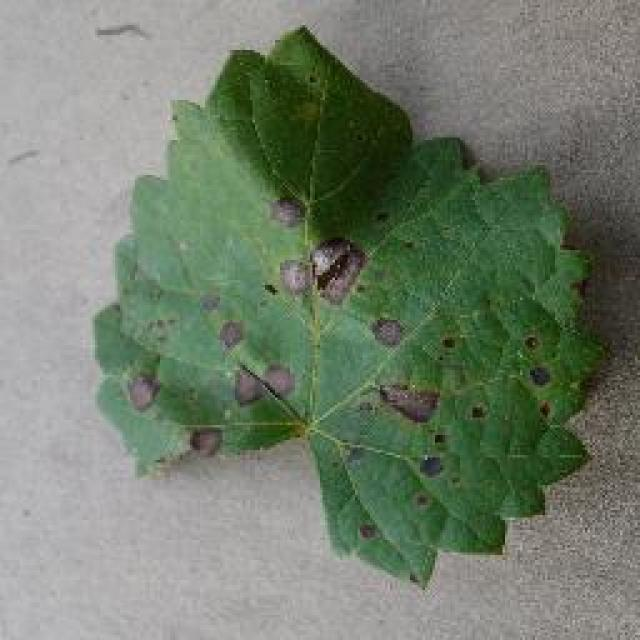Grape___Black_rot: (91, 26, 613, 596)
